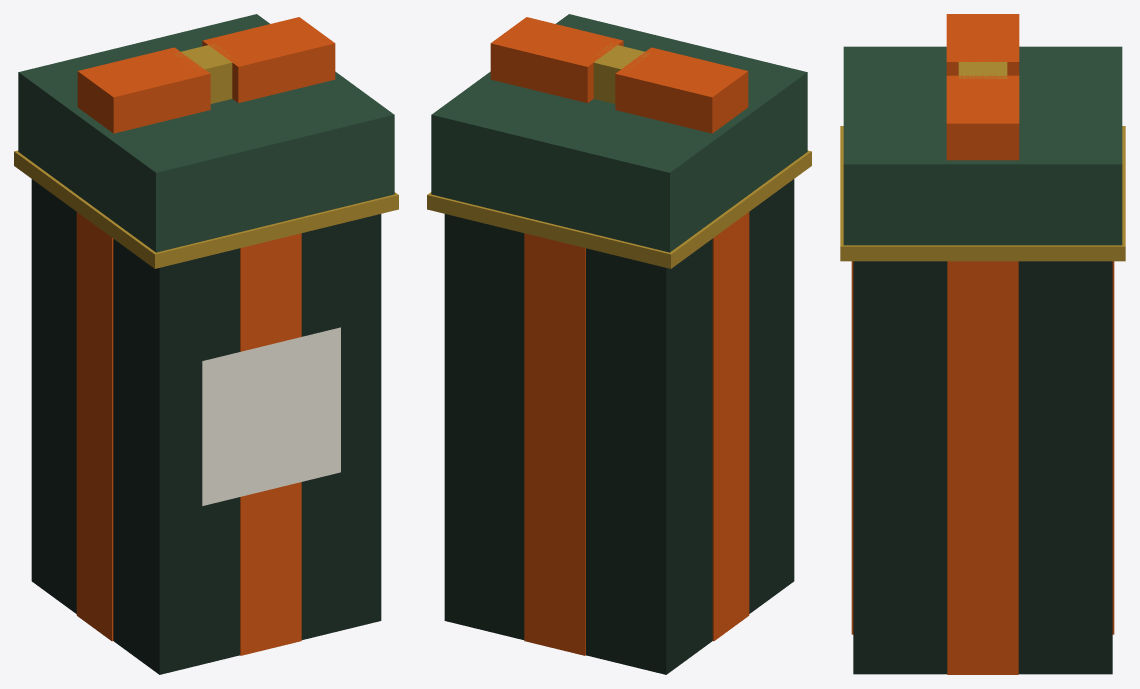
Rendered from gift-box.glb.
3 renders of one model, left to right at view 1: azimuth 30°, elevation 25°; view 2: azimuth 150°, elevation 25°; view 3: azimuth 270°, elevation 25°, orthographic.
Visible parts, largest first — view 1: box_body, box_lid, logo_slot, ribbon_z, ribbon_x, bow_left, bow_right, lid_lip, bow_knot; view 2: box_body, box_lid, ribbon_z, ribbon_x, bow_left, bow_right, lid_lip, bow_knot; view 3: box_body, box_lid, ribbon_x, bow_right, lid_lip, bow_left, ribbon_z, bow_knot.
Part boxes in pixels (x1=…): box_body: x1=31, y1=179, x2=381, y2=674; box_lid: x1=18, y1=14, x2=394, y2=252; logo_slot: x1=202, y1=327, x2=340, y2=505; ribbon_z: x1=240, y1=233, x2=301, y2=655; ribbon_x: x1=76, y1=212, x2=113, y2=641; bow_left: x1=77, y1=47, x2=210, y2=133; bow_right: x1=202, y1=17, x2=335, y2=102; lid_lip: x1=14, y1=150, x2=398, y2=268; bow_knot: x1=175, y1=43, x2=238, y2=103; box_body: x1=444, y1=179, x2=794, y2=674; box_lid: x1=431, y1=14, x2=807, y2=252; ribbon_z: x1=524, y1=233, x2=585, y2=655; ribbon_x: x1=712, y1=212, x2=749, y2=641; bow_left: x1=615, y1=47, x2=748, y2=133; bow_right: x1=490, y1=17, x2=623, y2=102; lid_lip: x1=427, y1=150, x2=811, y2=268; bow_knot: x1=593, y1=43, x2=650, y2=103; box_body: x1=853, y1=261, x2=1112, y2=674; box_lid: x1=843, y1=46, x2=1122, y2=245; ribbon_x: x1=947, y1=261, x2=1018, y2=674; bow_right: x1=946, y1=75, x2=1019, y2=160; lid_lip: x1=840, y1=126, x2=1125, y2=261; bow_left: x1=946, y1=14, x2=1019, y2=75; ribbon_z: x1=851, y1=261, x2=1114, y2=634; bow_knot: x1=958, y1=59, x2=1007, y2=78.
Size of the model in its own units: 0.176 by 0.375 by 0.176.
